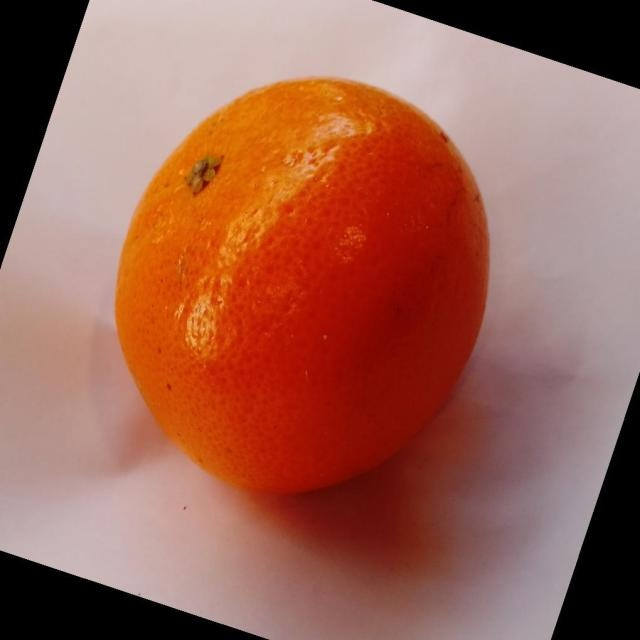agrume: (113, 75, 491, 497)
